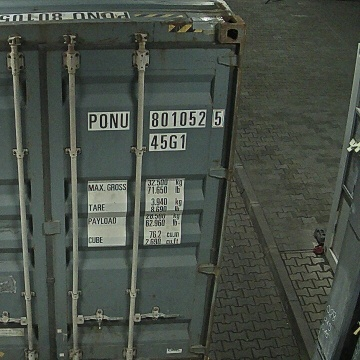serial_id: (89, 111, 222, 128)
